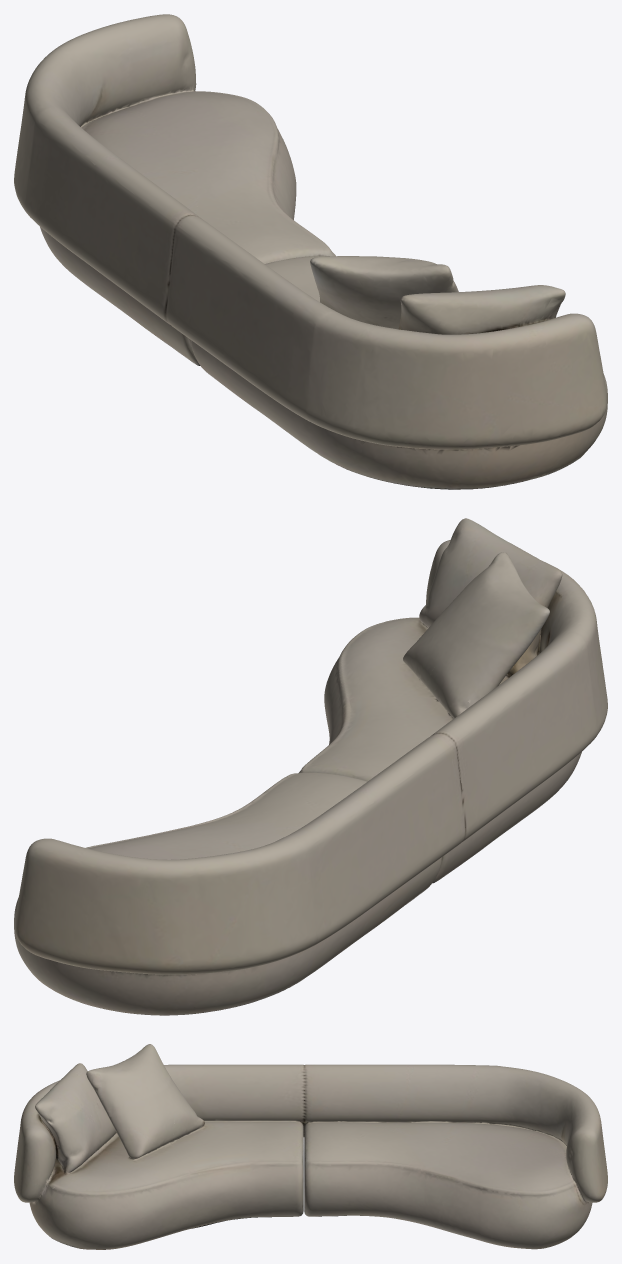
The model's file is sofa-01.glb.
3 renders of one model, top to bottom at view 1: azimuth 30°, elevation 25°; view 2: azimuth 150°, elevation 25°; view 3: azimuth 270°, elevation 25°, orthographic. The views are drawn at different scales.
Visible parts, largest first — view 1: tripo_node_5e3e3057-ebc3-4869-b3f4-78d9bc6e53de; view 2: tripo_node_5e3e3057-ebc3-4869-b3f4-78d9bc6e53de; view 3: tripo_node_5e3e3057-ebc3-4869-b3f4-78d9bc6e53de.
Part boxes in pixels (x1,y1,x2,y2): tripo_node_5e3e3057-ebc3-4869-b3f4-78d9bc6e53de: (14,14,607,489); tripo_node_5e3e3057-ebc3-4869-b3f4-78d9bc6e53de: (14,518,607,1015); tripo_node_5e3e3057-ebc3-4869-b3f4-78d9bc6e53de: (14,1044,607,1249).
Bounding box in the file's own units: 0.3636 × 0.2579 × 1.
1 material, 1 textured.
